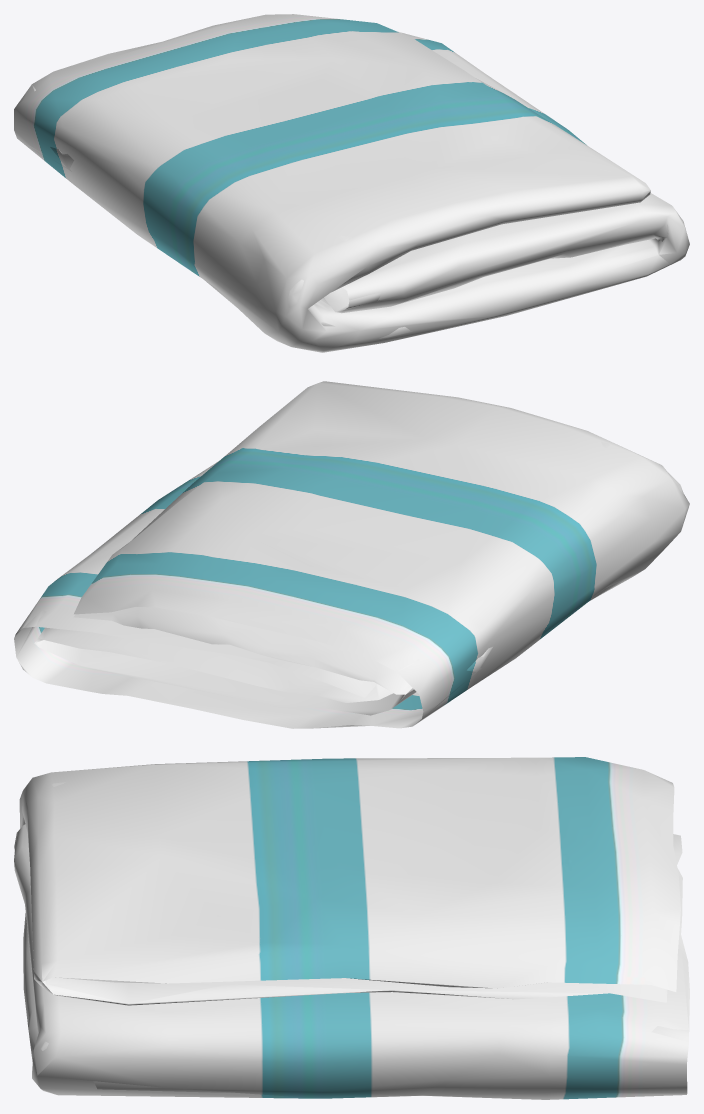
Rendered from Handuk.fbx.
3 views of the same model, one above another, from view 1: azimuth 30°, elevation 25°; view 2: azimuth 150°, elevation 25°; view 3: azimuth 270°, elevation 25° (orthographic). The views are drawn at different scales.
Visible parts, largest first — view 1: handuk; view 2: handuk; view 3: handuk.
Part boxes in pixels (bbox=[...]): handuk: bbox=[14, 14, 689, 352]; handuk: bbox=[14, 381, 689, 728]; handuk: bbox=[14, 757, 689, 1099].
Bounding box in the file's own units: 17.4 × 5 × 20.39.
Materials: 1 (1 with a texture image).
